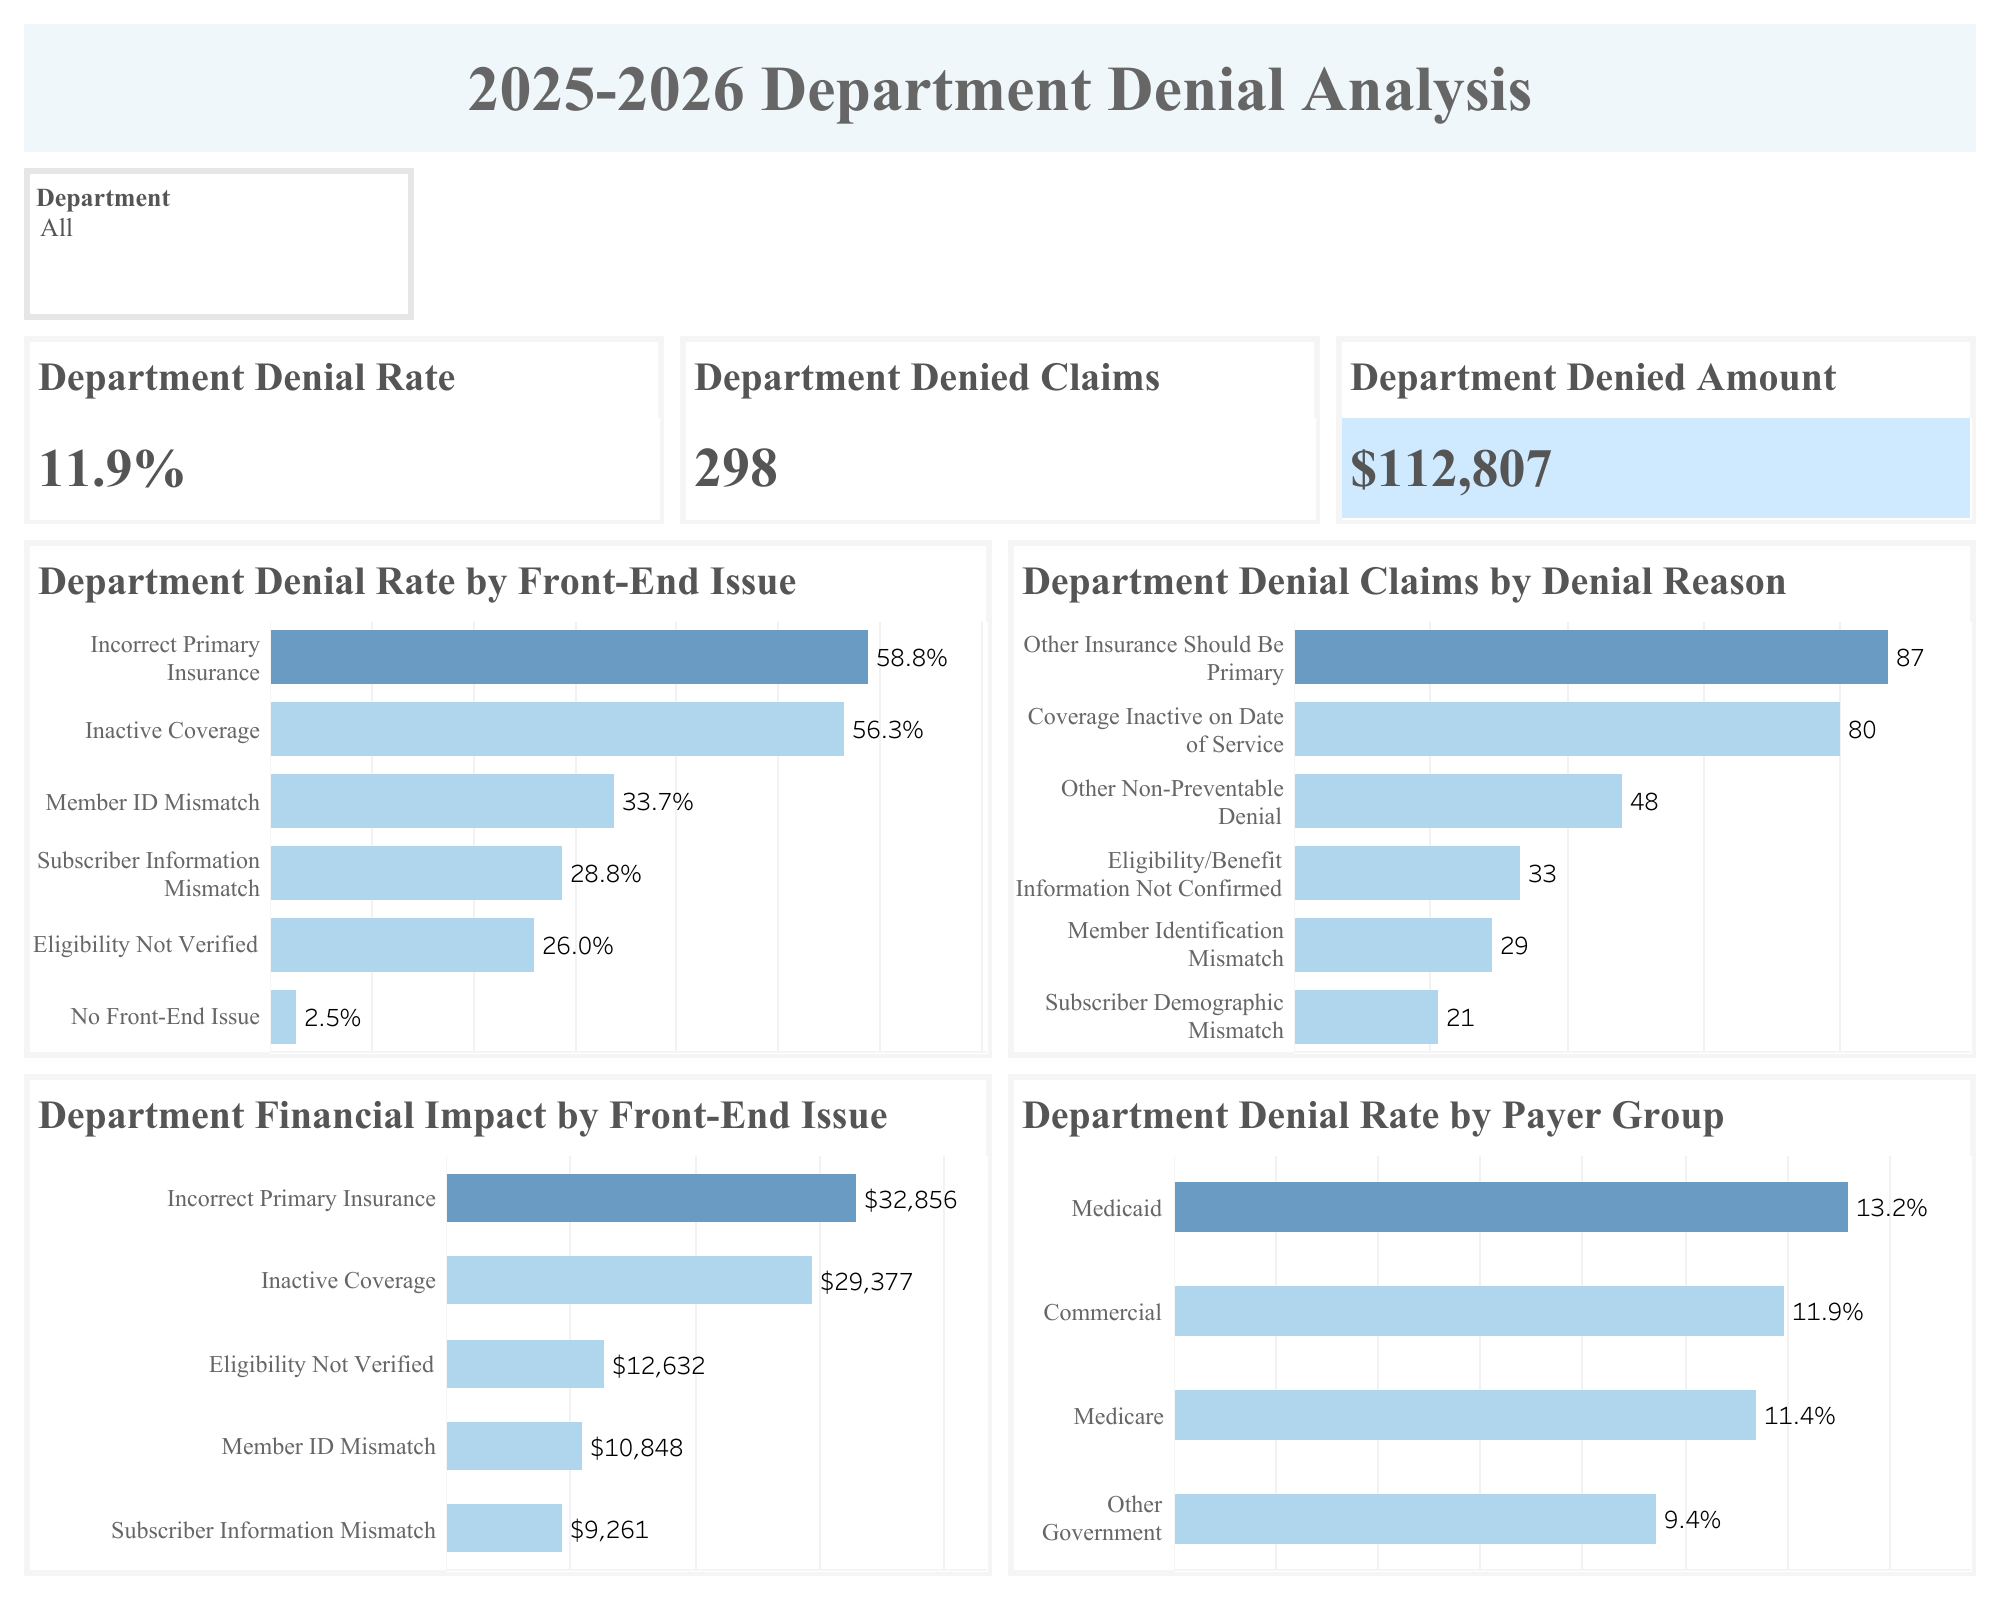

This screenshot's page, from the dashboard's own definition file:
{"tool":"tableau","page":{"name":"Department Analysis","canvas":[1000,800],"ordinal":0},"visuals":[{"type":"text","box":[8,8,984,72]},{"type":"filter","title":"Department Denial Rate","param":"[federated.1f7t0ab0ejwsoe1gbkrz80onrnb4].[none:Department:nk]","box":[8,80,203,84]},{"type":"blank","box":[211,80,781,84]},{"type":"worksheet","title":"Department Denial Rate","mark":"Automatic","box":[8,164,328,102]},{"type":"worksheet","title":"Department Denied Claims ","mark":"Automatic","box":[336,164,328,102]},{"type":"worksheet","title":"Department Denied Amount","mark":"Automatic","box":[664,164,328,102]},{"type":"worksheet","title":"Department Denial Rate by Front-End Issue ","mark":"Automatic","rows":["Front_End_Issue"],"cols":["Calculation_0774159867535362"],"box":[8,266,492,267]},{"type":"worksheet","title":"Department Denial Claims by Denial Reason","mark":"Automatic","rows":["Denial_Reason"],"cols":["Claim_Denied"],"box":[500,266,492,267]},{"type":"worksheet","title":"Department Financial Impact by Front-End Issue","mark":"Automatic","rows":["Front_End_Issue"],"cols":["Denied_Amount"],"box":[8,533,492,259]},{"type":"worksheet","title":"Department Denial Rate by Payer Group","mark":"Automatic","rows":["Payer_Group"],"cols":["Calculation_0774159867535362"],"box":[500,533,492,259]}]}

Visuals, with their boxes in screenshot pixels (x1, y1, x2, y2), scaled from the page's 1000x800 canvas onto the 1998x1598 screenshot:
text: <region>16, 16, 1982, 160</region>
"Department Denial Rate" filter: <region>16, 160, 422, 328</region>
blank: <region>422, 160, 1982, 328</region>
"Department Denial Rate" worksheet: <region>16, 328, 671, 531</region>
"Department Denied Claims " worksheet: <region>671, 328, 1327, 531</region>
"Department Denied Amount" worksheet: <region>1327, 328, 1982, 531</region>
"Department Denial Rate by Front-End Issue " worksheet: <region>16, 531, 999, 1065</region>
"Department Denial Claims by Denial Reason" worksheet: <region>999, 531, 1982, 1065</region>
"Department Financial Impact by Front-End Issue" worksheet: <region>16, 1065, 999, 1582</region>
"Department Denial Rate by Payer Group" worksheet: <region>999, 1065, 1982, 1582</region>
